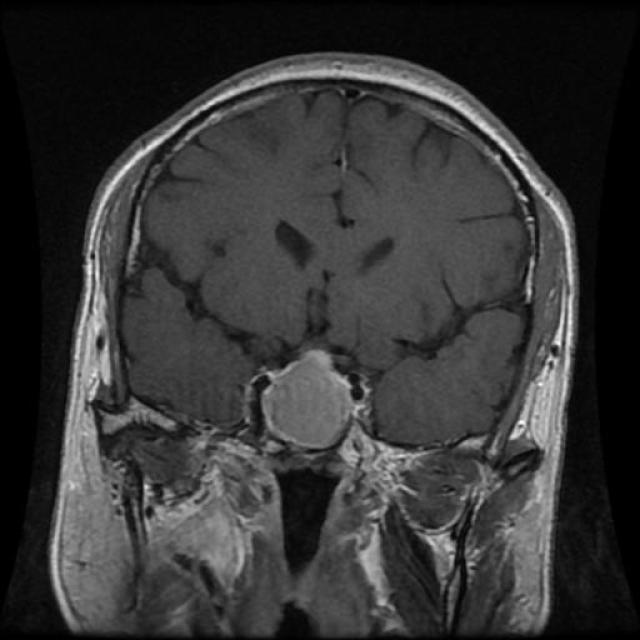pituitary: (245, 338, 365, 457)
